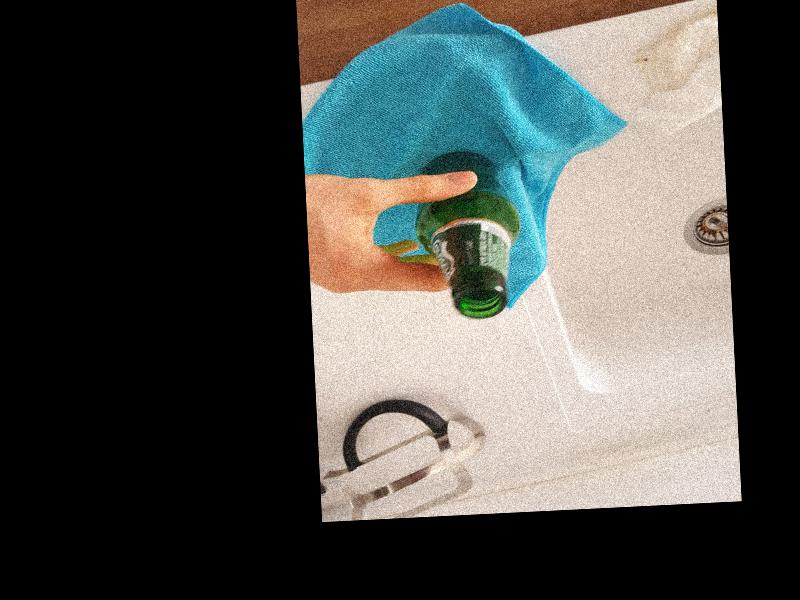Beer: (420, 147, 522, 318)
